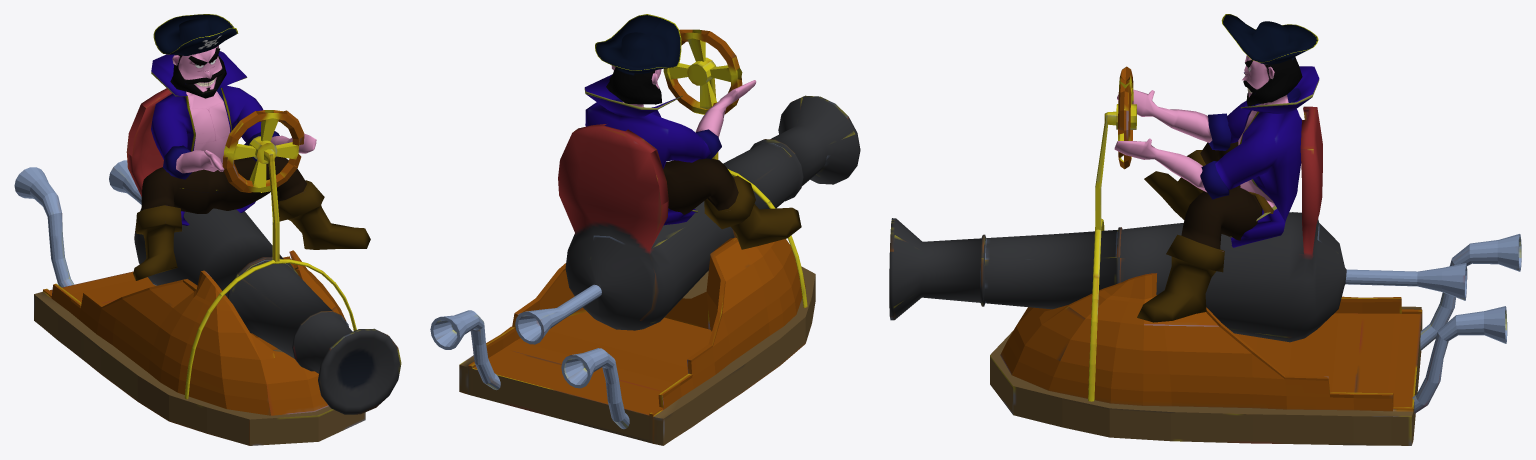
File: pirataGiroDER_000248.obj
3 renders of one model, left to right at view 1: azimuth 30°, elevation 25°; view 2: azimuth 150°, elevation 25°; view 3: azimuth 270°, elevation 25°, orthographic. The views are drawn at different scales.
Visible parts, largest first — view 1: carro_pirata, Pirata_PirataH; view 2: carro_pirata, Pirata_PirataH; view 3: carro_pirata, Pirata_PirataH.
Part boxes in pixels (x1=…): carro_pirata: x1=14, y1=88, x2=401, y2=445; Pirata_PirataH: x1=133, y1=14, x2=370, y2=280; carro_pirata: x1=430, y1=29, x2=860, y2=445; Pirata_PirataH: x1=584, y1=14, x2=801, y2=249; carro_pirata: x1=889, y1=66, x2=1521, y2=445; Pirata_PirataH: x1=1114, y1=14, x2=1319, y2=322.
Size of the model in its own units: 5.66 by 7.73 by 12.1.
Materials: 2 (2 with a texture image).
